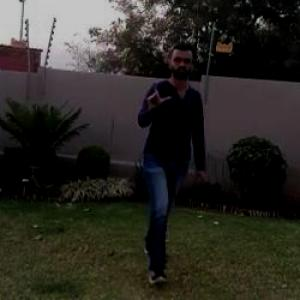land_hand: (144, 76, 174, 112)
